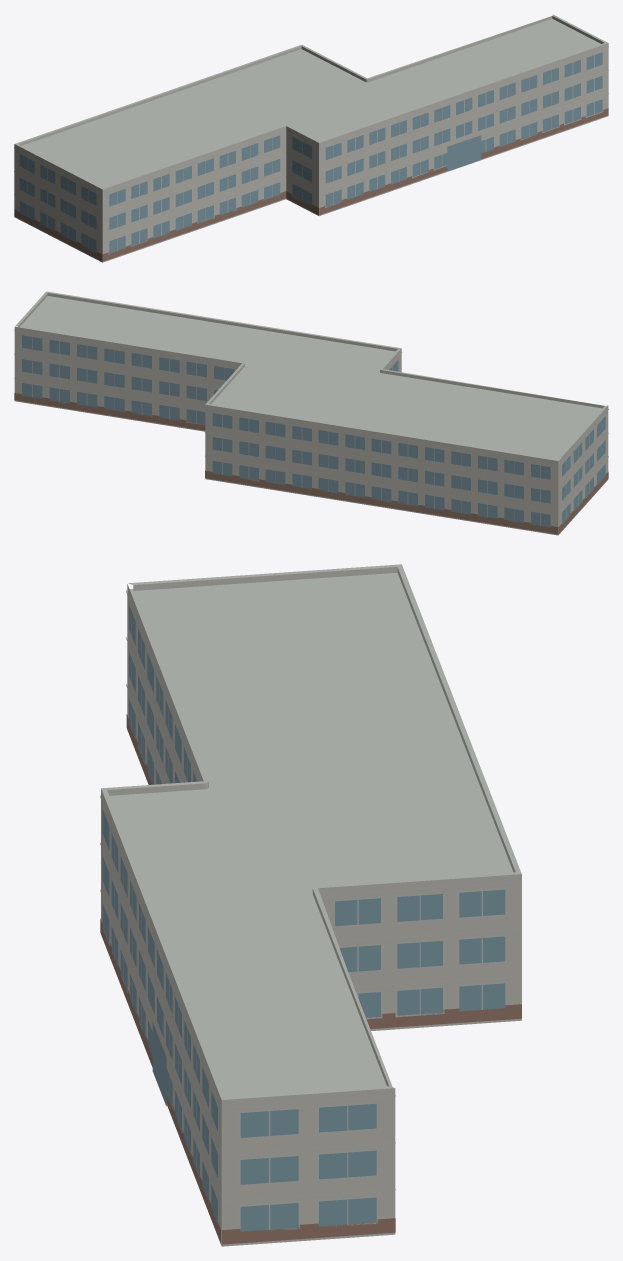
The model's file is public-f5926baa-d19b-4301-97fc-083ce8e95285.glb.
3 views of the same model, one above another, from view 1: azimuth 30°, elevation 25°; view 2: azimuth 150°, elevation 25°; view 3: azimuth 270°, elevation 25° (orthographic). The views are drawn at different scales.
Parts seen in each view (by area): view 1: public-f5926baa-d19b-4301-97fc-083ce8e95285; view 2: public-f5926baa-d19b-4301-97fc-083ce8e95285; view 3: public-f5926baa-d19b-4301-97fc-083ce8e95285.
Boxes of the visible parts, left/top/right/bottom form: public-f5926baa-d19b-4301-97fc-083ce8e95285: left=14, top=14, right=608, bottom=262; public-f5926baa-d19b-4301-97fc-083ce8e95285: left=14, top=291, right=608, bottom=535; public-f5926baa-d19b-4301-97fc-083ce8e95285: left=100, top=564, right=521, bottom=1246.
Bounding box in the file's own units: 71.89 × 9.15 × 23.95.
